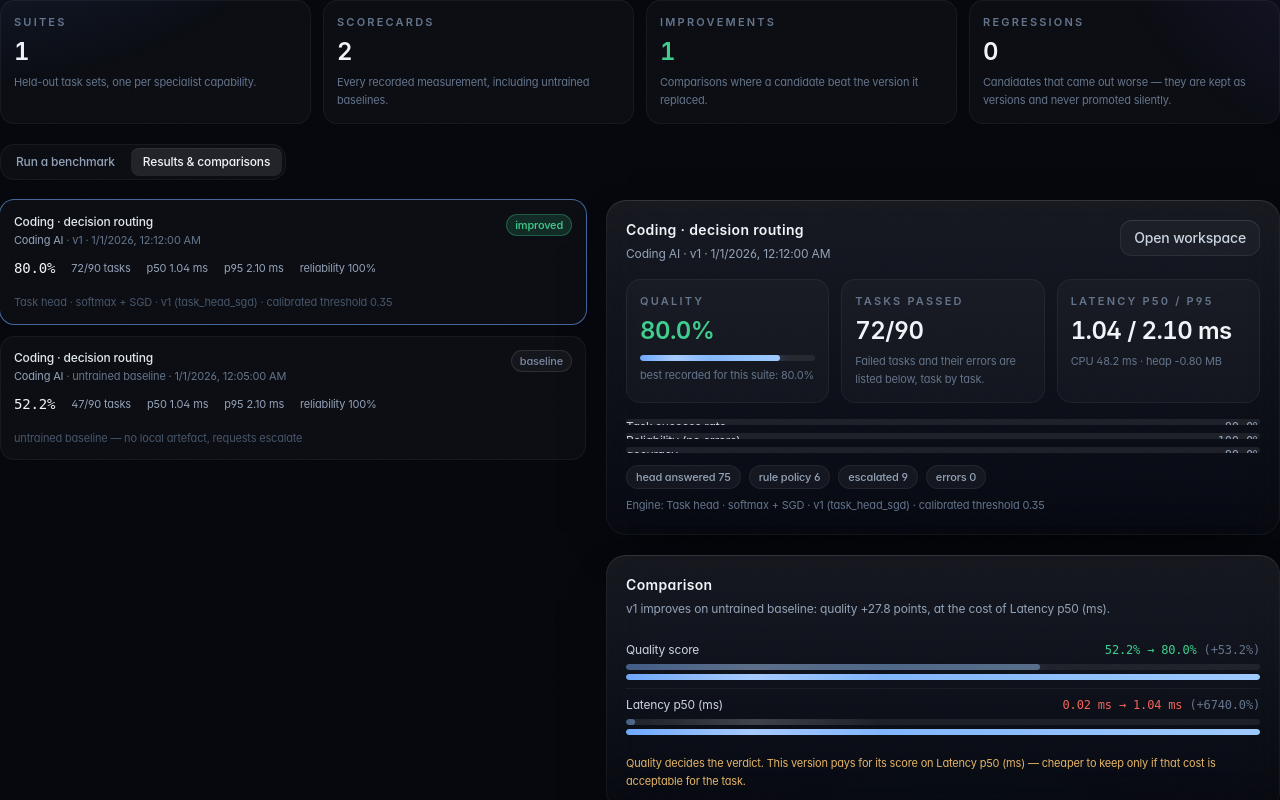
Test: benchmarks view › runs a suite on a chosen version and reports the result
The width and height of the screenshot is (1280, 800).
Click the tab "Run a benchmark".
click(65, 162)  # box [4,148,127,176]
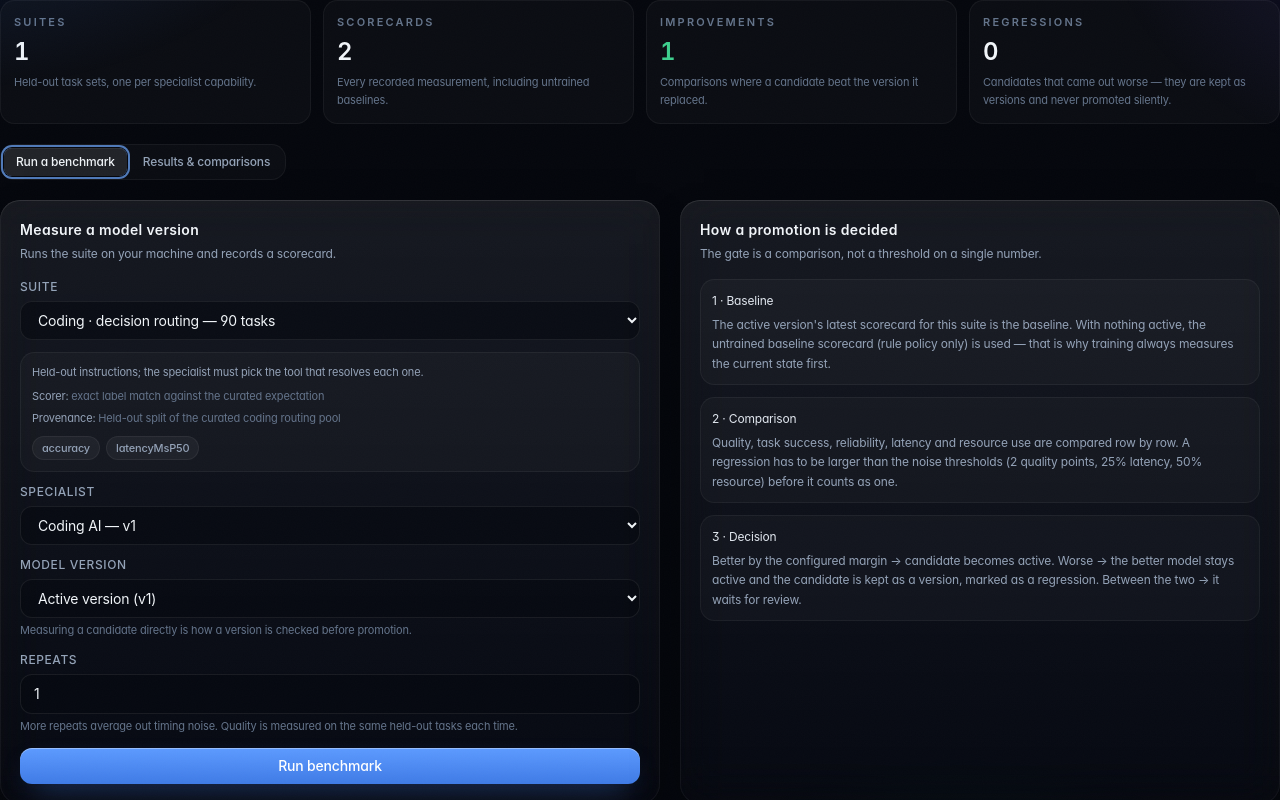
Click the button "Run benchmark".
click(330, 766)  # box [20,748,640,784]
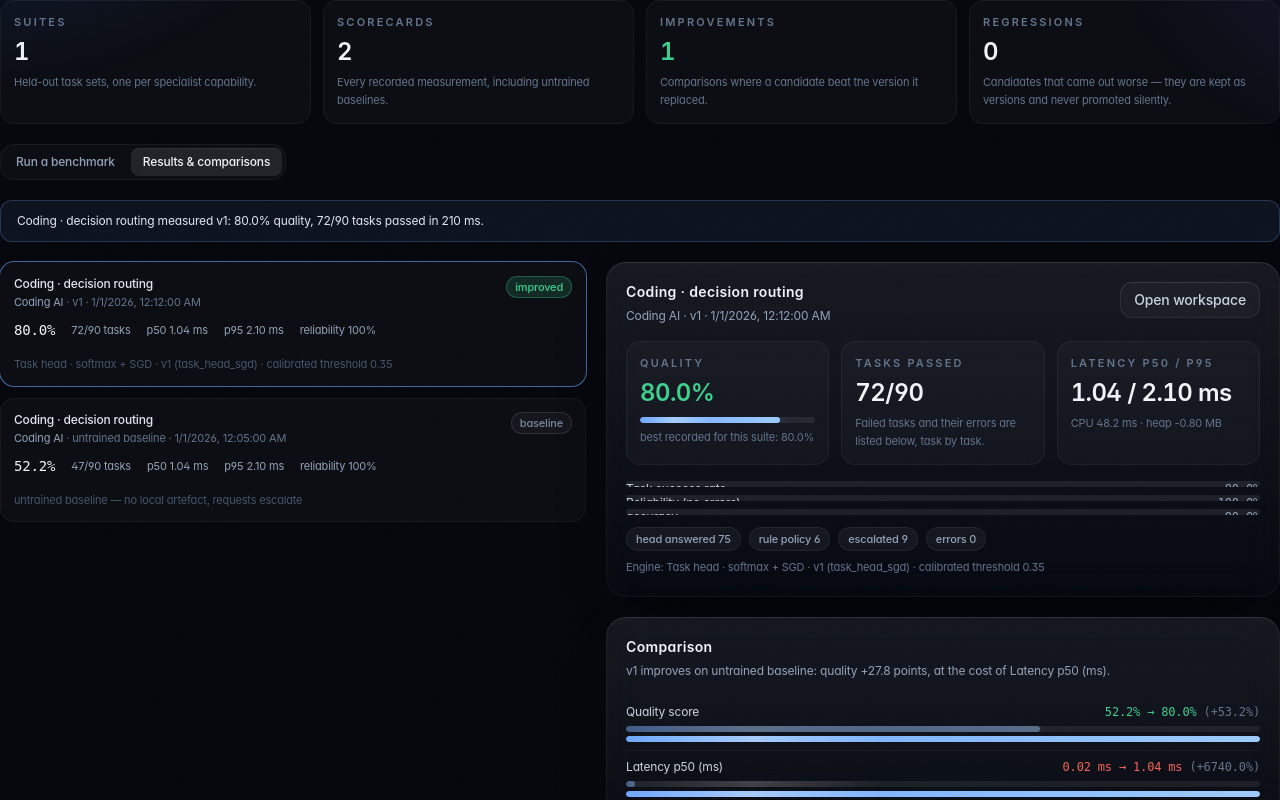
Result: the text "measured v1: 80.0% quality" is shown at [17,213,484,228]
